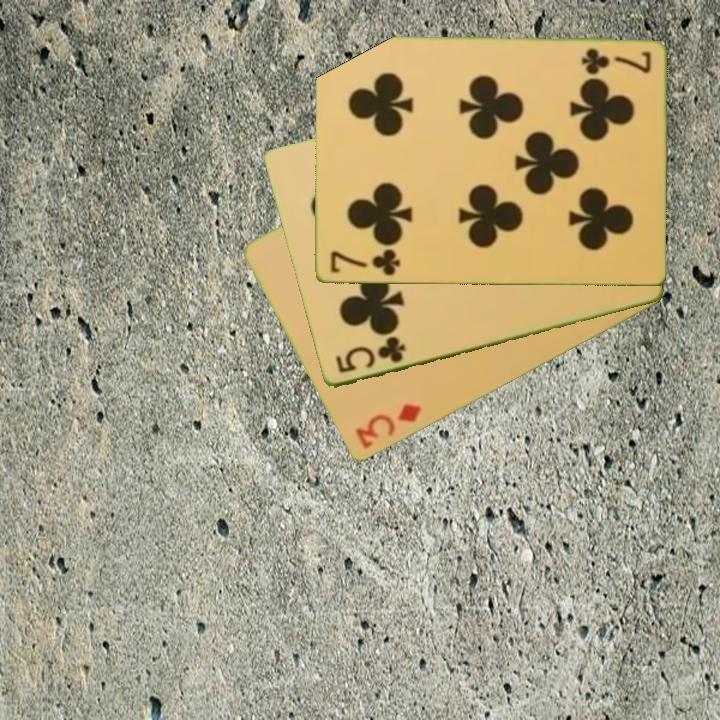3d: (352, 400, 424, 453)
5c: (331, 333, 409, 377)
7c: (327, 245, 403, 279), (577, 45, 653, 76)
